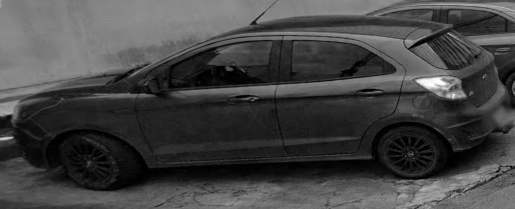car: (14, 16, 505, 175)
